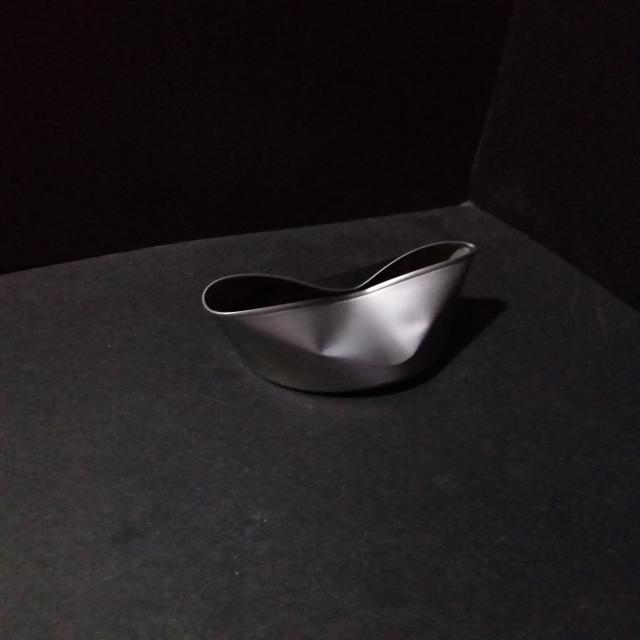metal: (203, 236, 477, 402)
